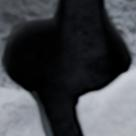broken_brick: (81, 68, 135, 135), (0, 87, 42, 135)
crack: (0, 0, 134, 135)
